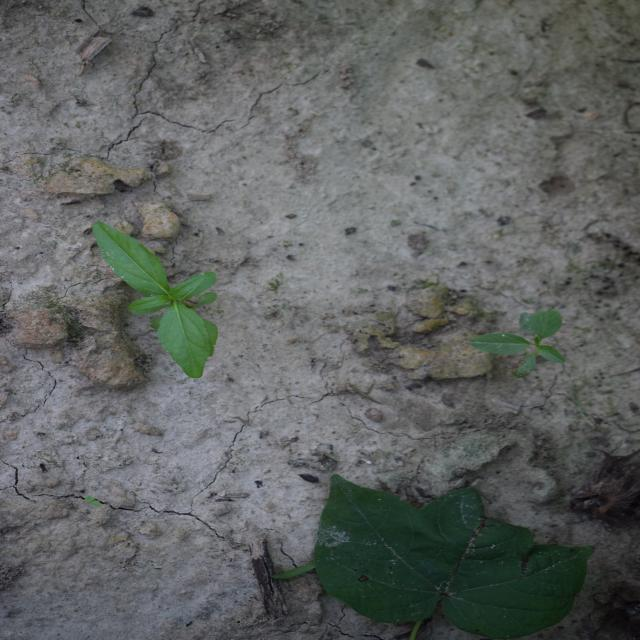Eclipta: (90, 220, 222, 380)
Waterhemp: (465, 308, 567, 379)
